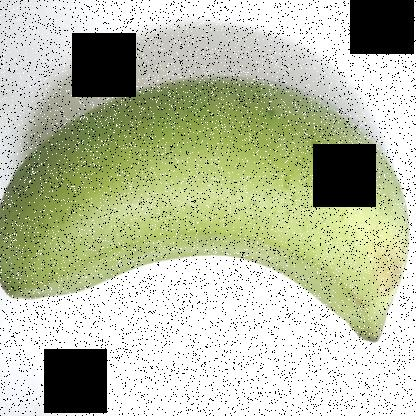freshunripe: (1, 68, 414, 352)
